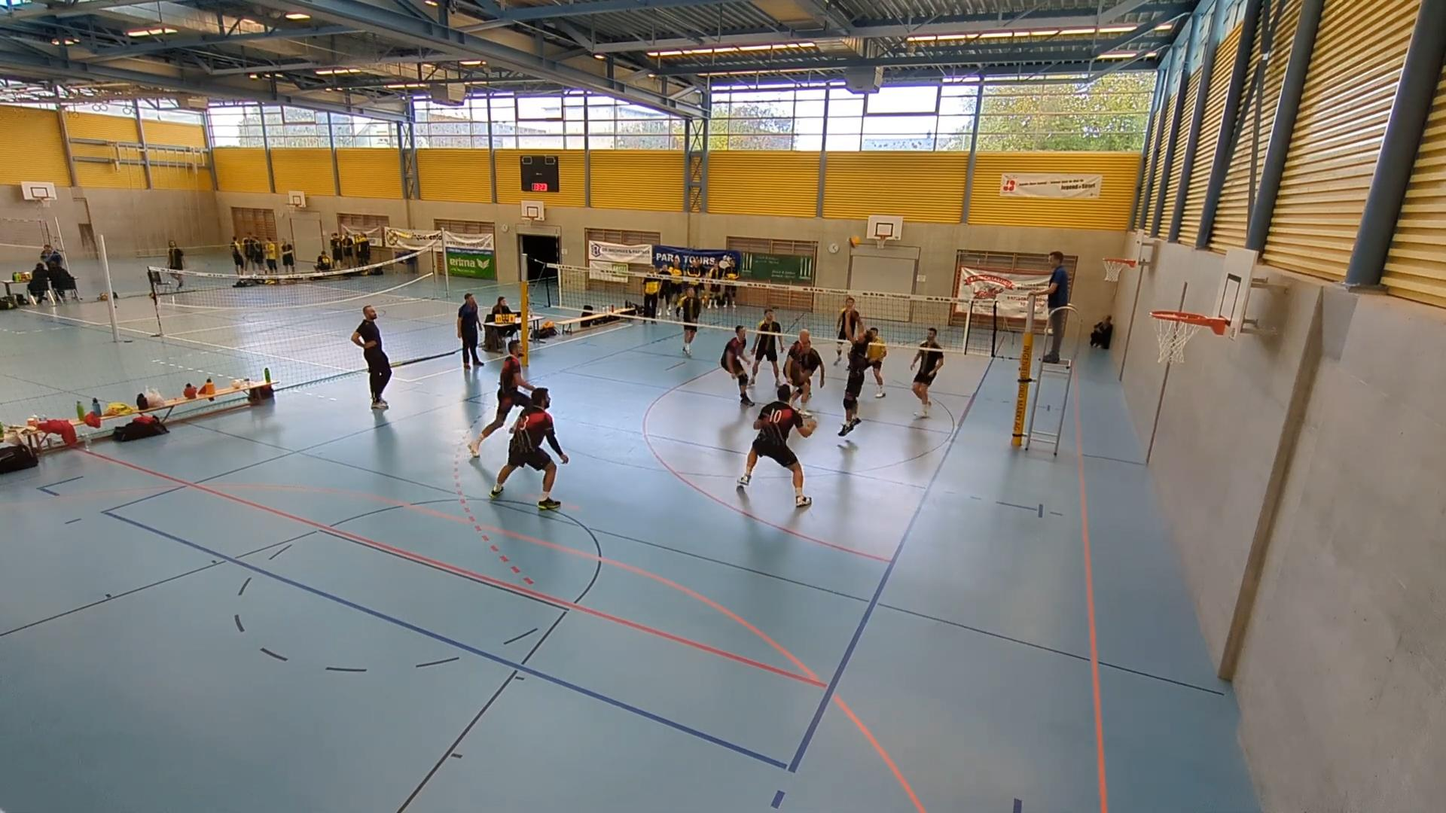Player: (738, 385, 816, 507), (490, 388, 568, 510), (468, 340, 535, 457), (784, 330, 825, 410), (911, 327, 944, 418), (720, 326, 753, 406), (751, 309, 781, 385), (836, 297, 861, 364), (679, 286, 702, 356), (866, 329, 887, 397)
Set: (837, 300, 874, 438)
ball: (845, 231, 862, 253)
